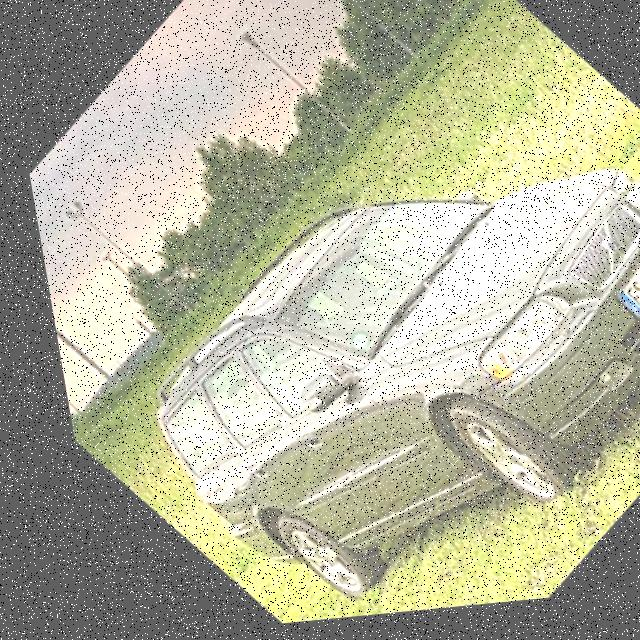license_plate: (589, 244, 640, 331)
